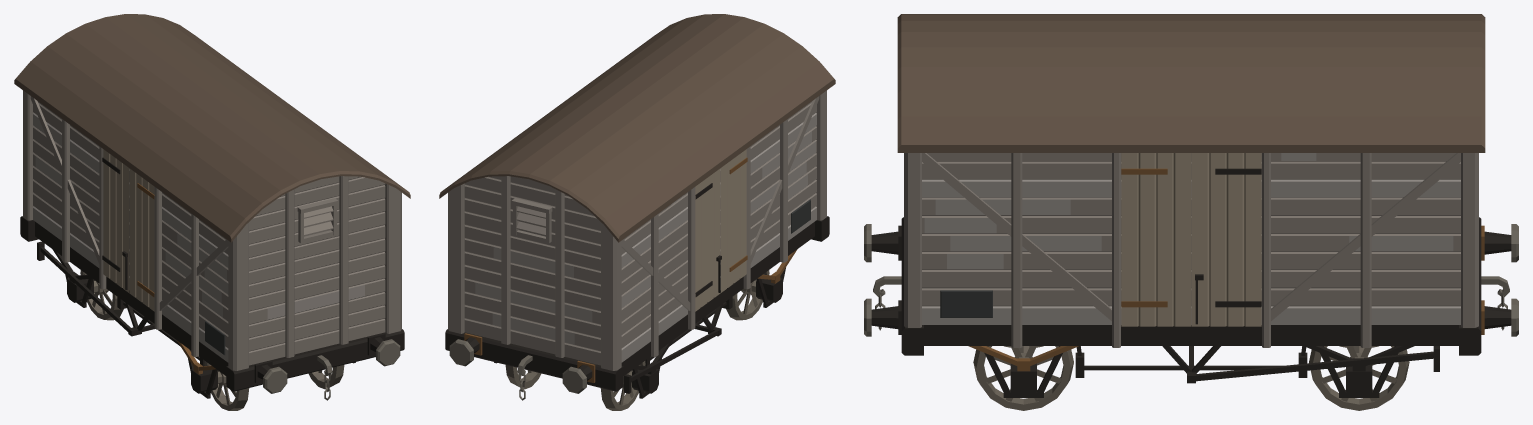
File: covered-goods-van-34fce3.glb
The picture shows the model from 3 angles, left to right: view 1: azimuth 30°, elevation 25°; view 2: azimuth 150°, elevation 25°; view 3: azimuth 270°, elevation 25°; orthographic projection. The views are drawn at different scales.
Parts seen in each view (by area): view 1: body, wheel-1-set, wheel-2-set; view 2: body, wheel-2-set, wheel-1-set; view 3: body, wheel-1-set, wheel-2-set.
Part boxes in pixels (bbox=[...]): body: bbox=[14, 14, 410, 400]; wheel-1-set: bbox=[204, 361, 344, 410]; wheel-2-set: bbox=[80, 270, 123, 320]; body: bbox=[439, 14, 835, 400]; wheel-2-set: bbox=[505, 361, 645, 410]; wheel-1-set: bbox=[726, 270, 769, 320]; body: bbox=[864, 14, 1518, 397]; wheel-1-set: bbox=[973, 346, 1073, 410]; wheel-2-set: bbox=[1309, 346, 1409, 410].
Size of the model in its own units: 2.78 by 3.8 by 6.5.
